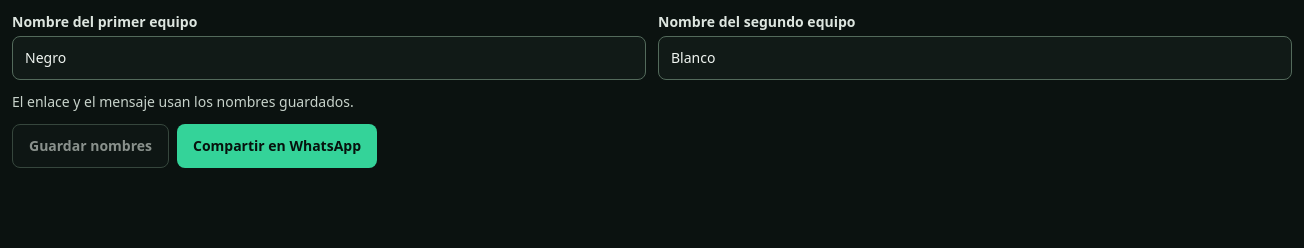
Scenario: nombres guardados al compartir › conserva el nombre editado y el bloqueo si falla el guardado
The image size is (1304, 248).
In the field labelled "Nombre del primer equipo": (329, 58) [12,36,646,80], type "Rojos"
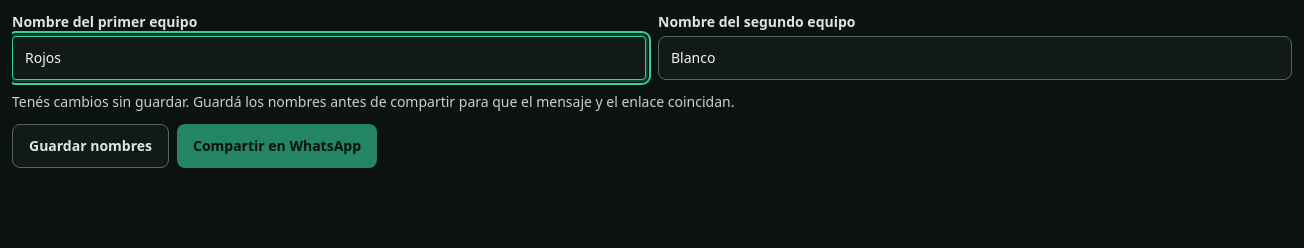
Click the button "Guardar nombres": (90, 146) [12,124,169,168]
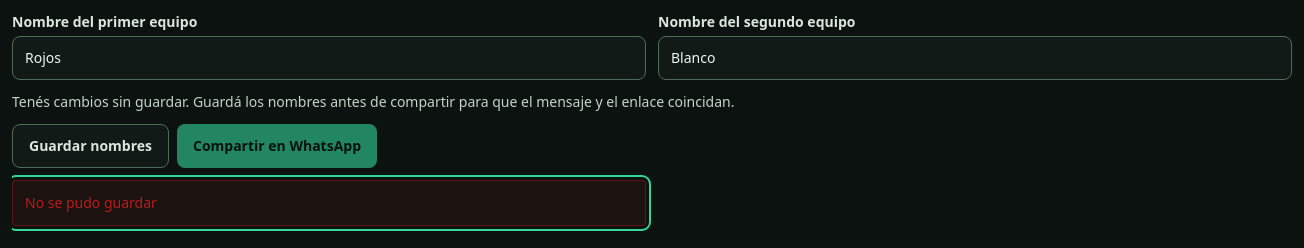
expect the button "Compartir en WhatsApp" is disabled: met, box [177,124,377,168]
expect the message "No se pudo guardar" is shown: met, box [12,180,646,226]
